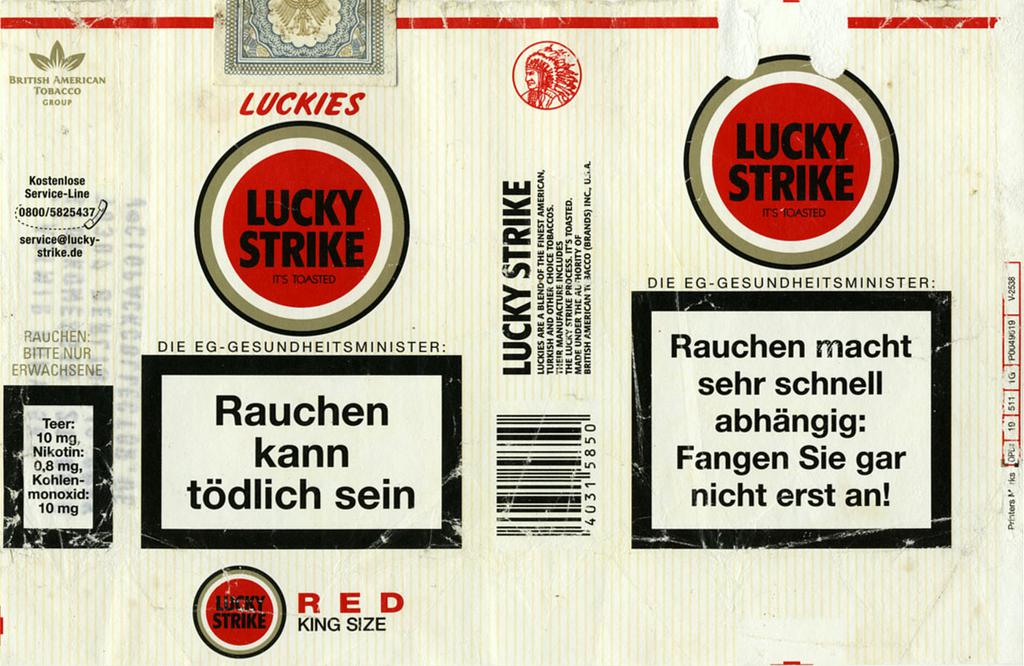lucky_strike_red: (624, 3, 960, 553), (138, 3, 465, 546)
